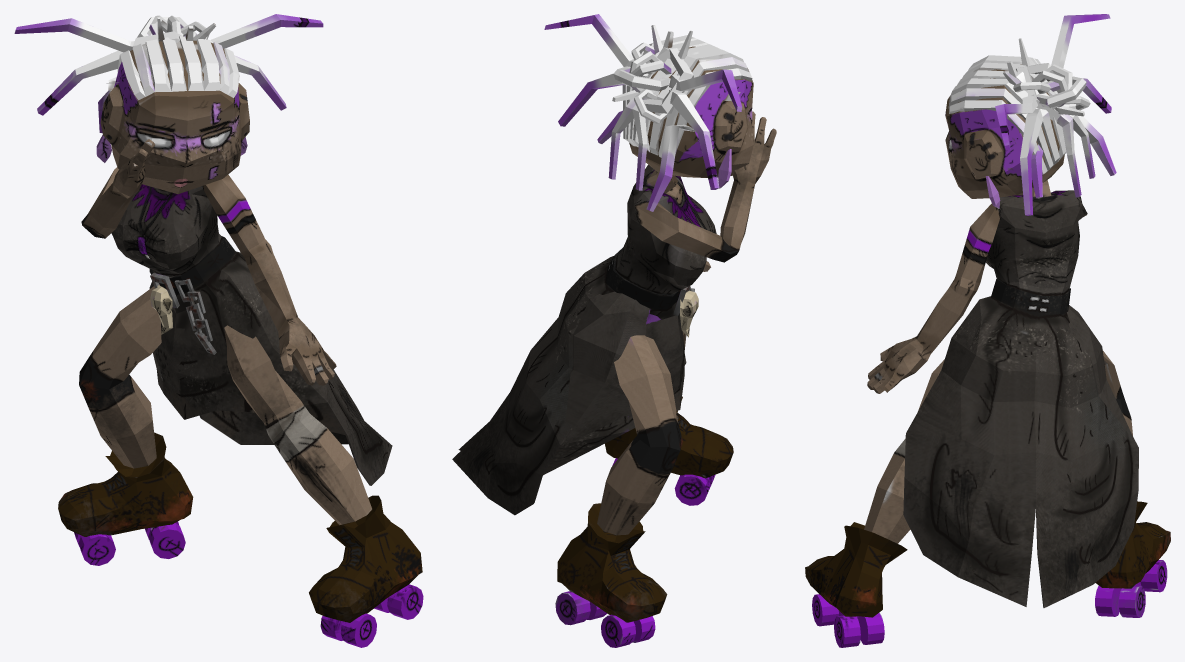
File: bruja_000058.obj
3 views of the same model, side by side, from view 1: azimuth 30°, elevation 25°; view 2: azimuth 150°, elevation 25°; view 3: azimuth 270°, elevation 25° (orthographic). The views are drawn at different scales.
Visible parts, largest first — view 1: Bruja_Plane.001; view 2: Bruja_Plane.001; view 3: Bruja_Plane.001.
Boxes of the visible parts, x1,y1,x2,y2 form: Bruja_Plane.001: (14, 14, 423, 647); Bruja_Plane.001: (452, 14, 776, 647); Bruja_Plane.001: (805, 14, 1170, 647).
Bounding box in the file's own units: 9.22 × 15.42 × 9.25.
